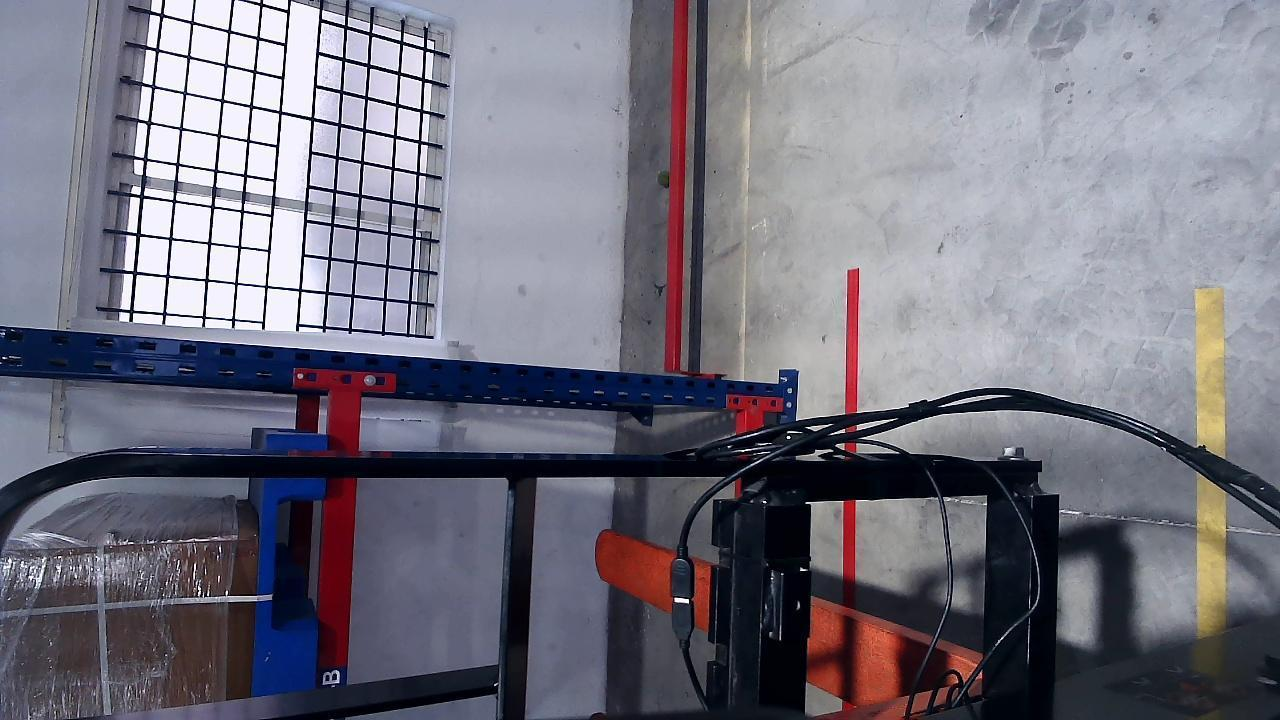red_line: (844, 268, 861, 412)
yellow_line: (1194, 287, 1226, 459)
